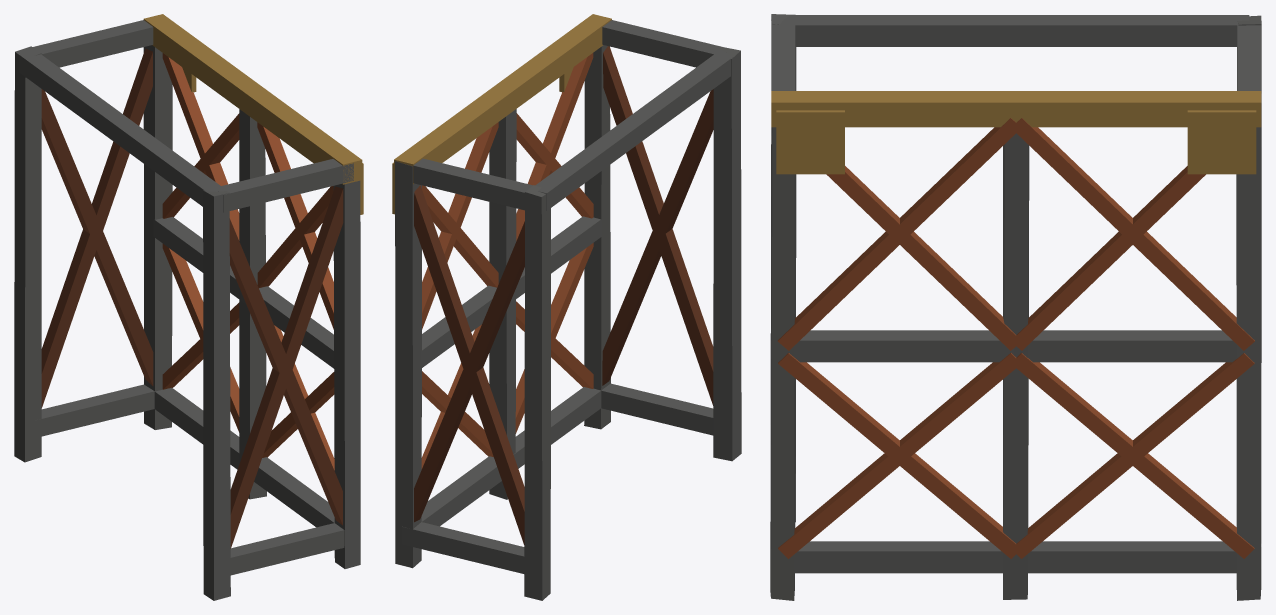
Rendered from arm_reinforced_cage.glb.
3 renders of one model, left to right at view 1: azimuth 30°, elevation 25°; view 2: azimuth 150°, elevation 25°; view 3: azimuth 270°, elevation 25°, orthographic. The views are drawn at different scales.
Parts seen in each view (by area): view 1: arm_reinforced_cage; view 2: arm_reinforced_cage; view 3: arm_reinforced_cage.
Part boxes in pixels (x1=…): arm_reinforced_cage: x1=14, y1=14, x2=363, y2=600; arm_reinforced_cage: x1=392, y1=14, x2=741, y2=600; arm_reinforced_cage: x1=770, y1=14, x2=1261, y2=600.
Size of the model in its own units: 0.6339 by 1.61 by 1.44.
